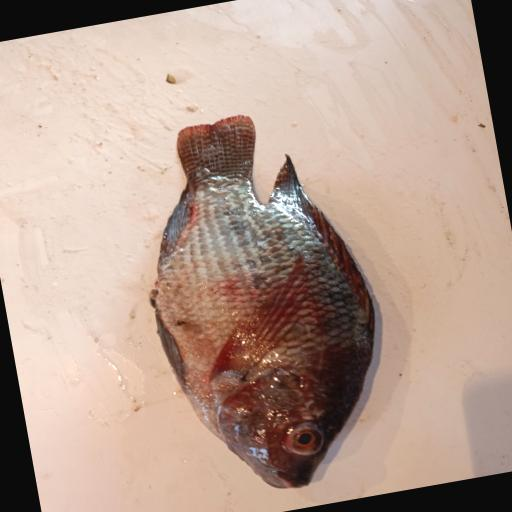Tilapia: (121, 97, 404, 509)
